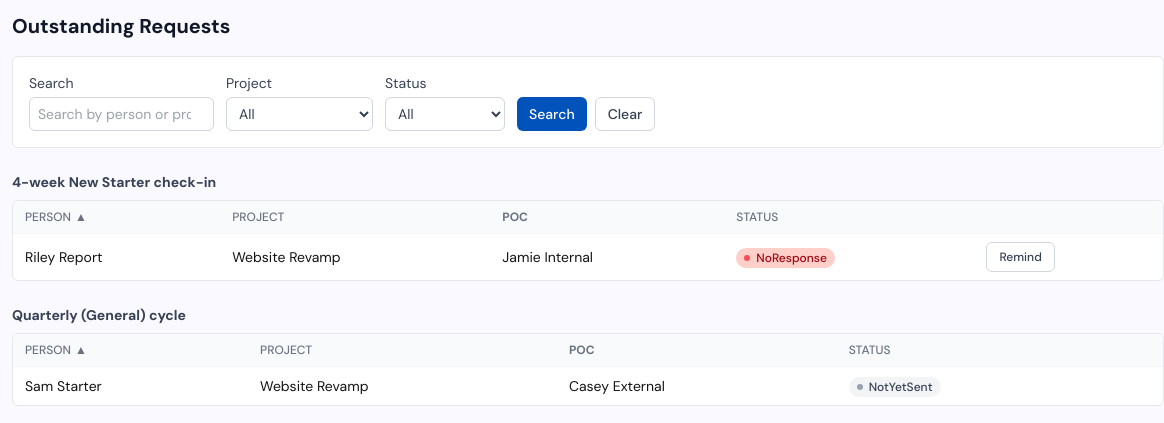
Test case: OutstandingRequestsPage › clicking Remind sends the reminder and shows a success state
Click the button "Remind": coordinates (1021, 257) [986,242,1055,272]
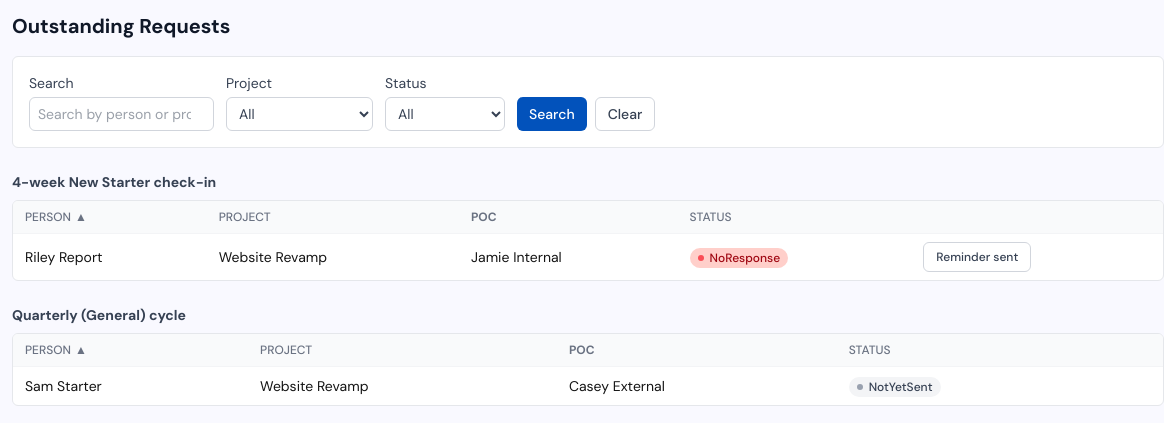
Now the button "Reminder sent" is shown, box [923,242,1031,272]
